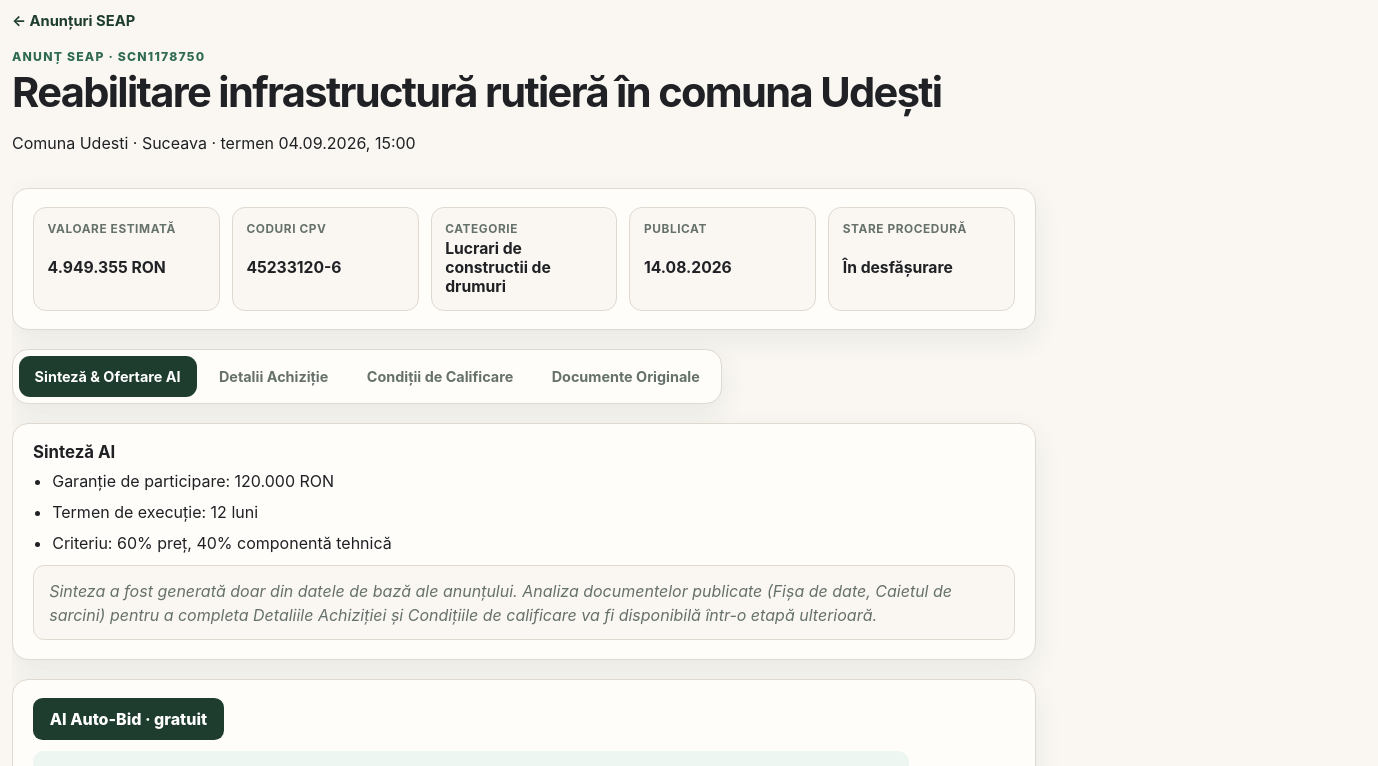
Test case: SeapTenderDetailComponent › keeps the generate button visible as disabled + spinner and shows the toast while the request is in flight
Click the button "AI Auto-Bid · gratuit" at [128, 719], box [33, 698, 224, 740]
Wait 6000 ms
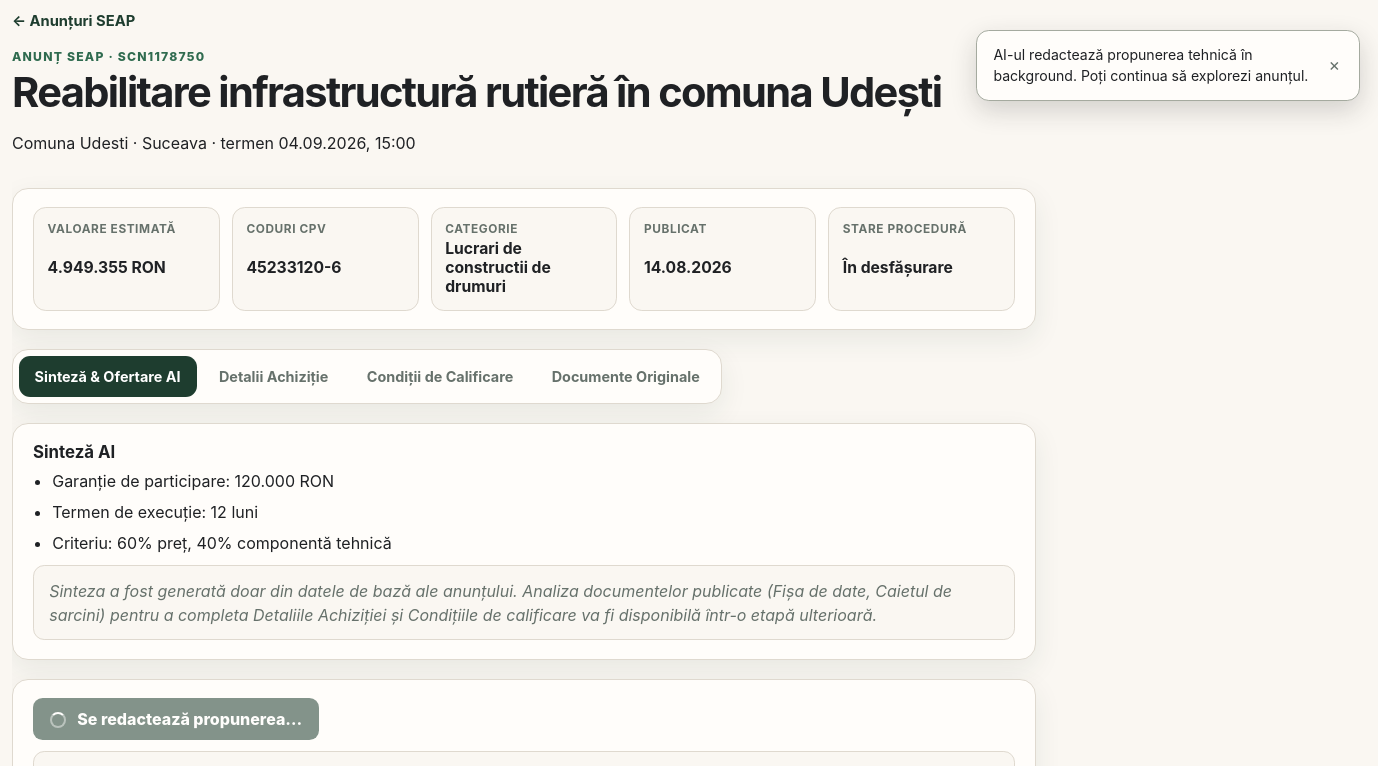
Result: the button "Se redactează propunerea…" is disabled at [33, 698, 319, 740]
Result: the element with class "spinner" is shown at [50, 712, 66, 728]
Result: the text "AI-ul redactează propunerea tehnică în background" is shown at [993, 46, 1308, 84]
